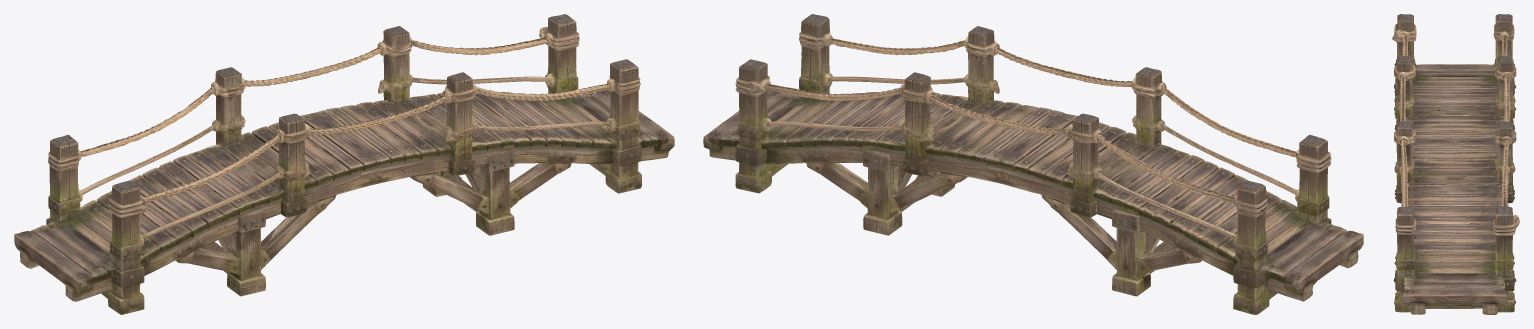
Rendered from bridge.glb.
3 renders of one model, left to right at view 1: azimuth 30°, elevation 25°; view 2: azimuth 150°, elevation 25°; view 3: azimuth 270°, elevation 25°, orthographic. The views are drawn at different scales.
Parts seen in each view (by area): view 1: Mesh_0; view 2: Mesh_0; view 3: Mesh_0.
Boxes of the visible parts, <box> form: Mesh_0: <box>14,14,674,314</box>; Mesh_0: <box>703,14,1363,314</box>; Mesh_0: <box>1392,14,1519,314</box>.
Size of the model in its own units: 1.9 by 0.5055 by 0.4424.
1 material, 1 textured.
